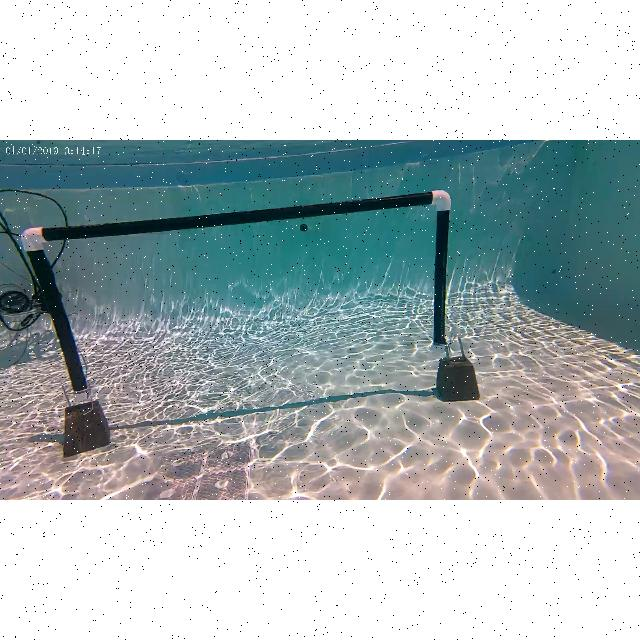prequal gate: (21, 190, 451, 402)
prequal gate leg l: (18, 218, 92, 402)
prequal gate leg r: (426, 190, 462, 348)
